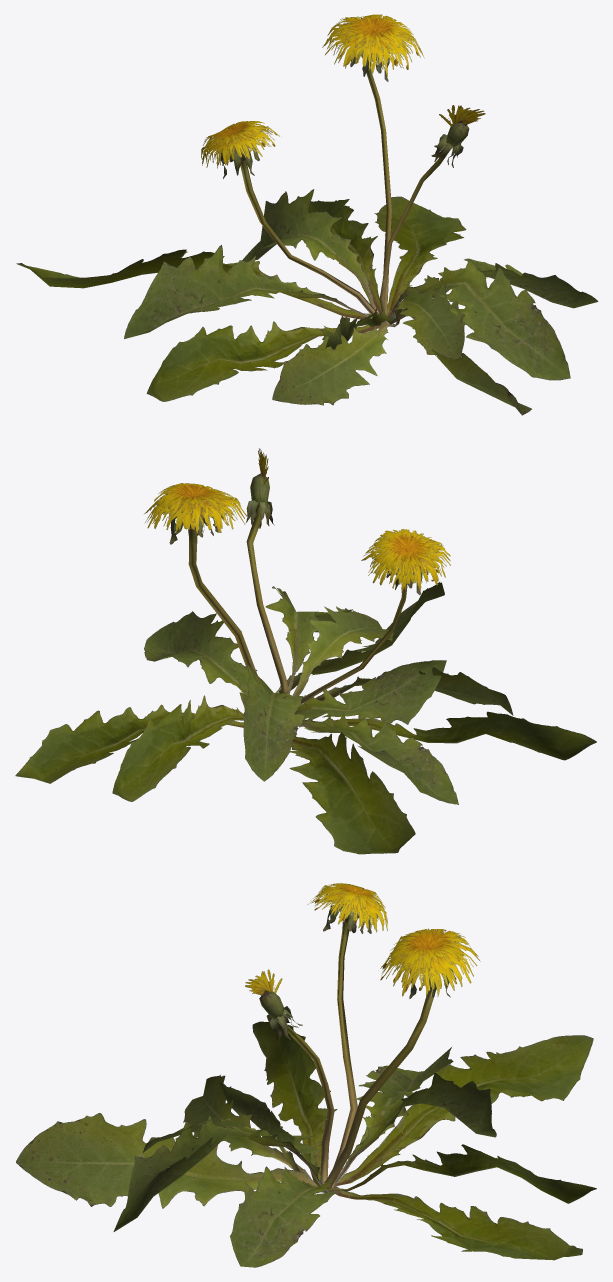
File: dandelion_01_b_LOD1.glb
3 renders of one model, top to bottom at view 1: azimuth 30°, elevation 25°; view 2: azimuth 150°, elevation 25°; view 3: azimuth 270°, elevation 25°, orthographic. The views are drawn at different scales.
Visible parts, largest first — view 1: dandelion_01_b_LOD1__lod0; view 2: dandelion_01_b_LOD1__lod0; view 3: dandelion_01_b_LOD1__lod0.
Part boxes in pixels (box(x1,y1,x2,y2)): dandelion_01_b_LOD1__lod0: box(16, 14, 598, 415); dandelion_01_b_LOD1__lod0: box(15, 448, 596, 854); dandelion_01_b_LOD1__lod0: box(16, 883, 596, 1267).
Size of what is drawn, in the model's own units: 0.2019 by 0.1138 by 0.2181.
Materials: 1 (1 with a texture image).
